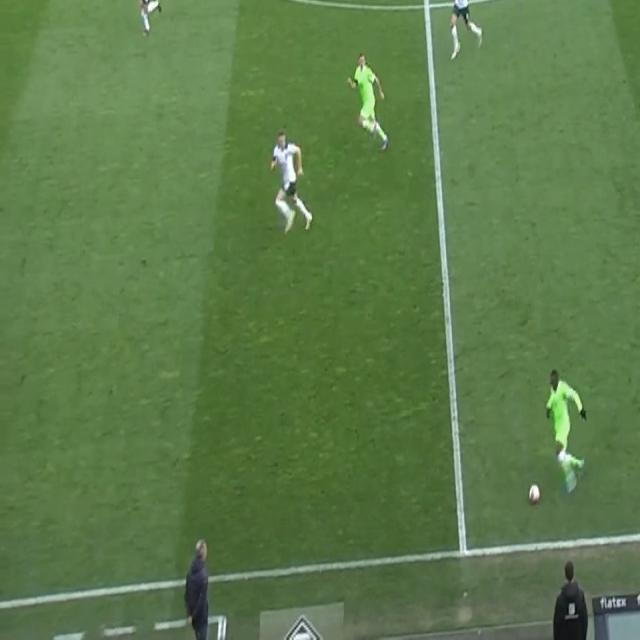ball: (528, 482, 542, 507)
